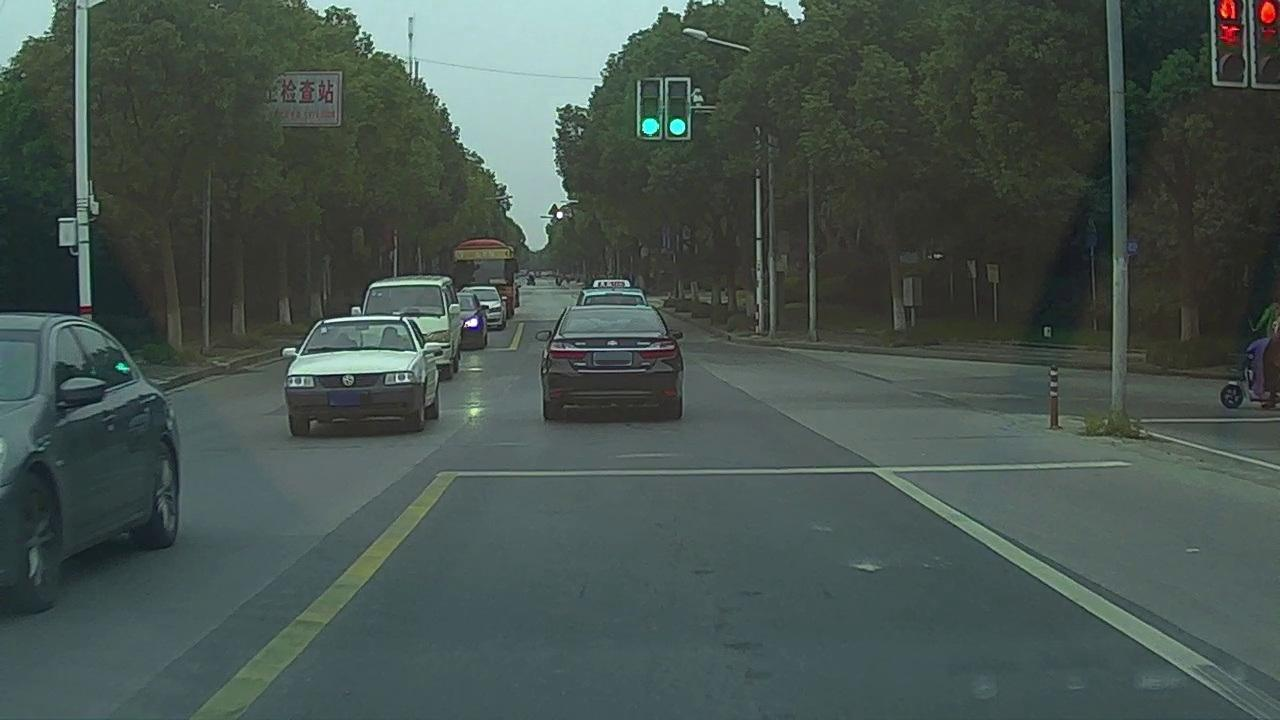traffic_light: (668, 77, 688, 139), (640, 80, 660, 140)
